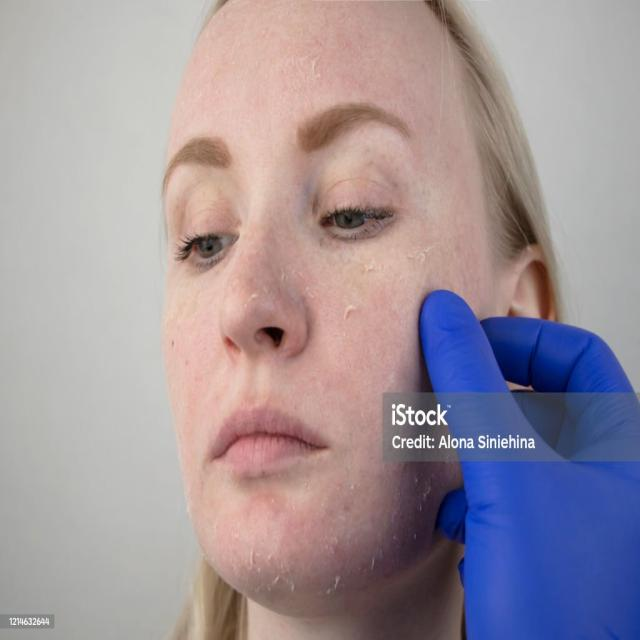Dry-Skin: (243, 246, 462, 333), (216, 498, 354, 618), (355, 463, 476, 594), (247, 8, 357, 116)
